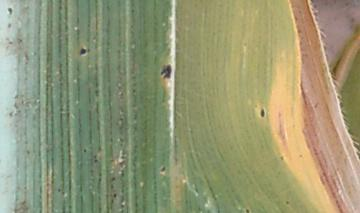tarspot: (158, 62, 173, 81), (78, 46, 88, 57), (258, 106, 267, 118), (158, 164, 167, 175), (5, 6, 14, 16), (15, 36, 23, 46), (7, 109, 14, 118), (278, 154, 285, 162), (81, 146, 88, 154), (297, 151, 304, 158), (284, 199, 290, 207), (110, 175, 116, 183), (6, 21, 12, 29), (6, 40, 14, 46), (112, 192, 118, 199), (92, 158, 99, 164), (244, 207, 250, 213), (56, 187, 61, 193)
